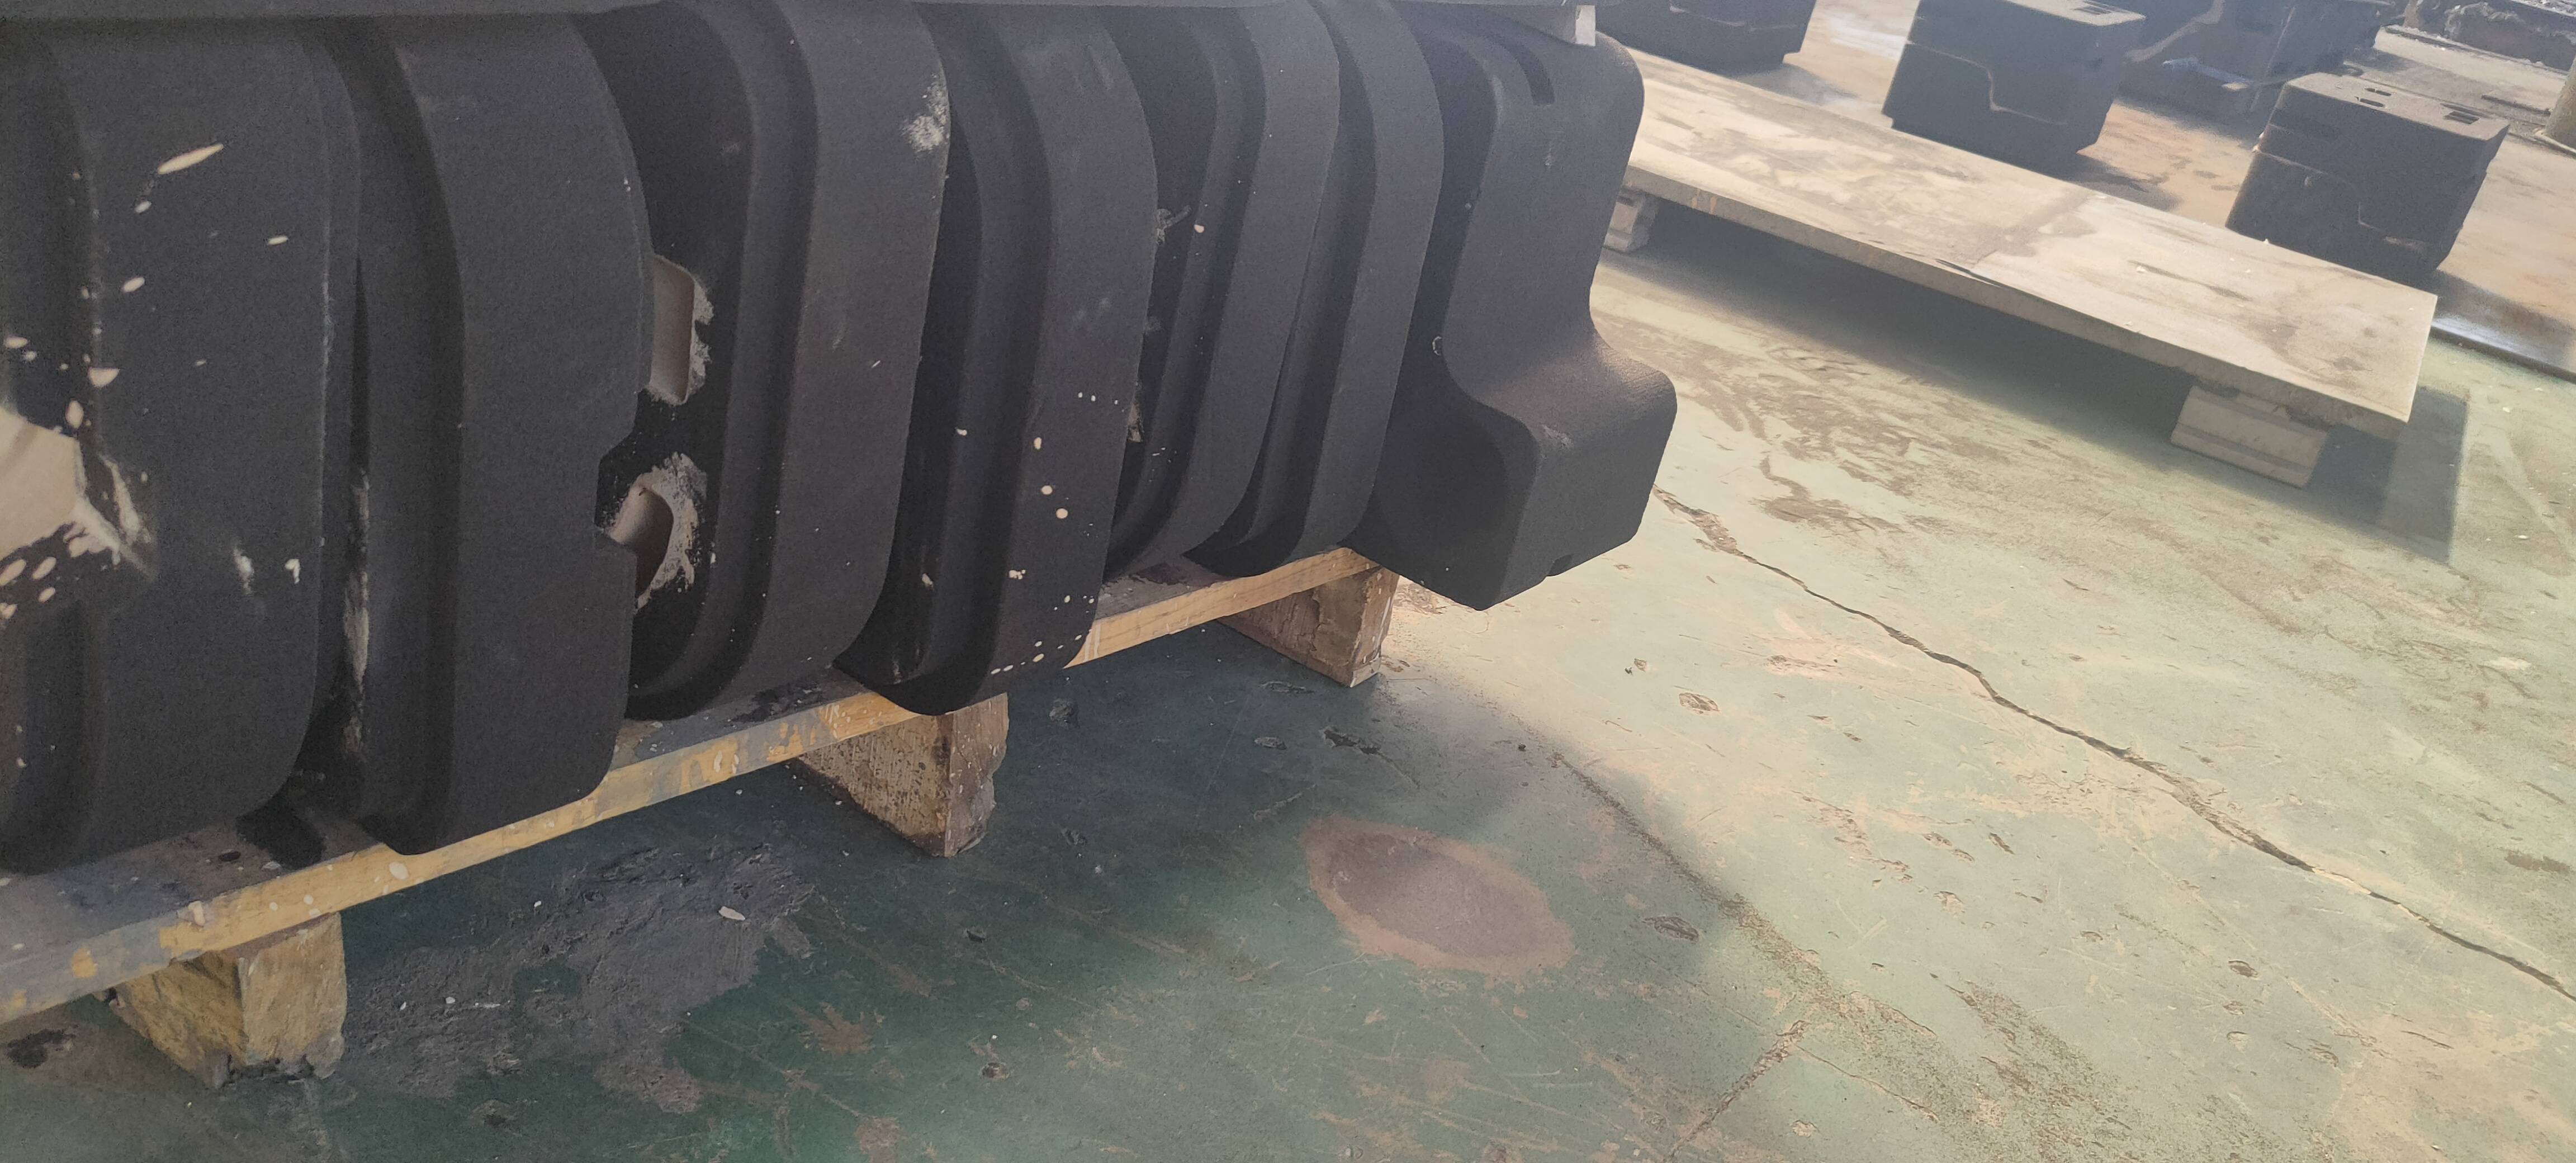pouring hole: (1375, 412, 1508, 555), (2440, 102, 2499, 120)
